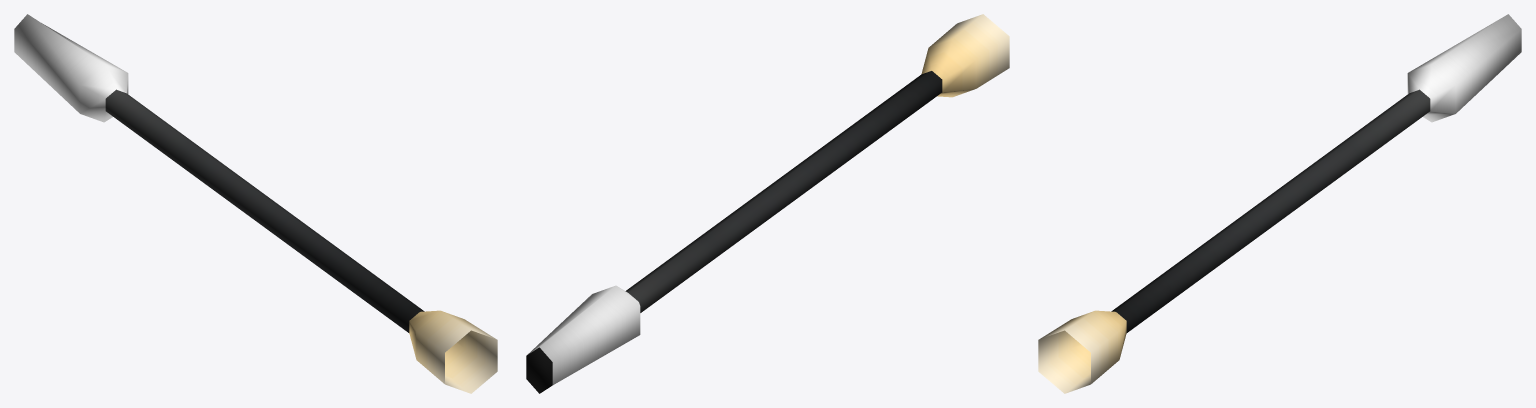
File: CigaretteHolder.fbx
The picture shows the model from 3 angles, left to right: view 1: azimuth 30°, elevation 25°; view 2: azimuth 150°, elevation 25°; view 3: azimuth 330°, elevation 25°; orthographic projection.
Parts seen in each view (by area): view 1: CigaretteHolder; view 2: CigaretteHolder; view 3: CigaretteHolder.
Boxes of the visible parts, left/top/right/bottom form: CigaretteHolder: left=14, top=14, right=497, bottom=393; CigaretteHolder: left=526, top=14, right=1009, bottom=393; CigaretteHolder: left=1038, top=14, right=1521, bottom=393.
Bounding box in the file's own units: 3.95 × 4.56 × 57.72.
